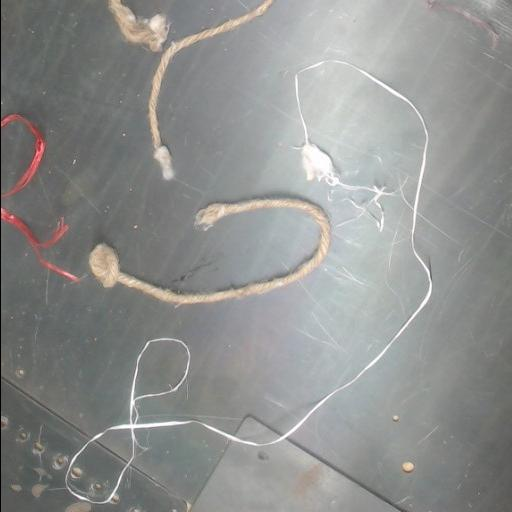conveyor belt: (1, 0, 512, 511), (124, 0, 259, 45), (71, 432, 130, 497), (136, 339, 188, 394), (1, 122, 33, 191)
jute: (89, 198, 330, 304), (148, 0, 272, 179), (108, 0, 169, 51)
thread: (65, 59, 432, 503), (1, 206, 78, 281), (1, 114, 45, 197)
